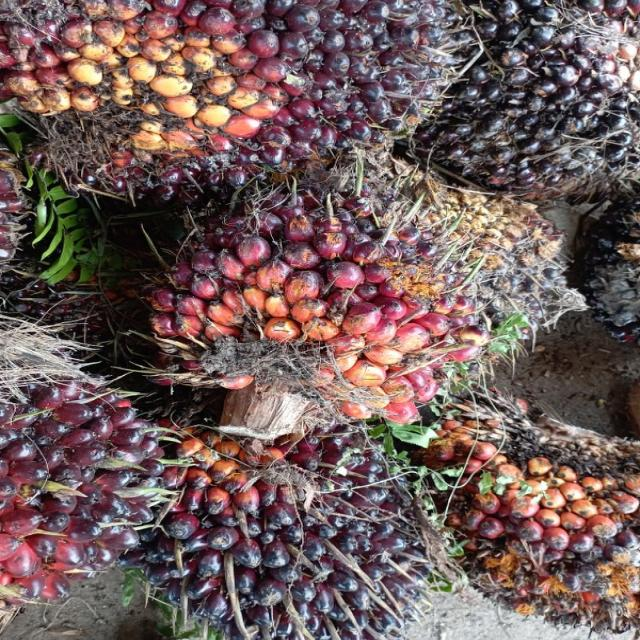fraksi 00: (12, 0, 474, 235), (99, 425, 478, 640), (410, 0, 640, 215)
fraksi 1: (108, 128, 562, 496)
